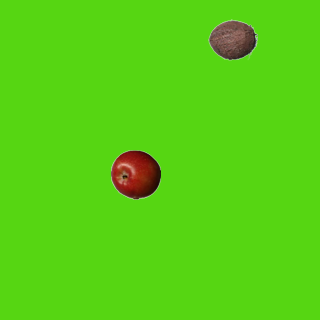Apple Braeburn: (110, 149, 160, 199)
Cocos: (207, 14, 257, 64)
